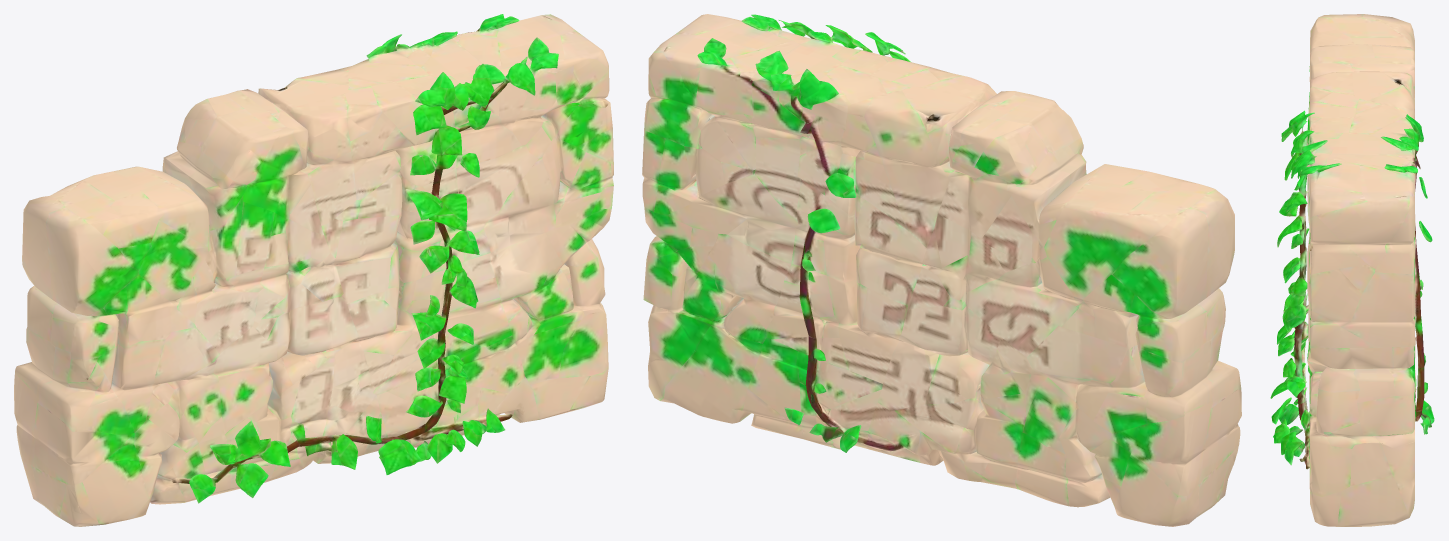
Rendered from stone_ruin_block.glb.
3 renders of one model, left to right at view 1: azimuth 30°, elevation 25°; view 2: azimuth 150°, elevation 25°; view 3: azimuth 270°, elevation 25°, orthographic. The views are drawn at different scales.
Bounding box in the file's own units: 1.9 × 1.23 × 0.5376.
Materials: 1 (1 with a texture image).
